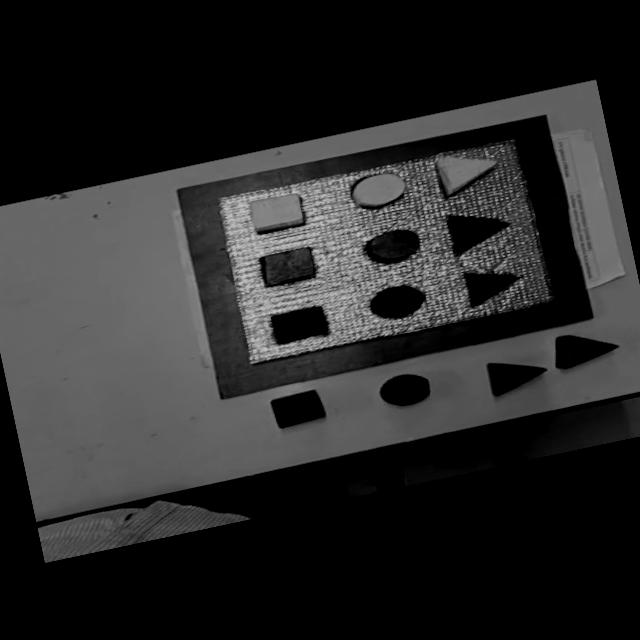bcircle: (374, 368, 434, 411)
bcube: (267, 385, 329, 430)
btriangle: (483, 350, 551, 398)
mtcircle: (364, 278, 429, 324)
mtcube: (266, 302, 332, 348)
mttriangle: (442, 202, 515, 256), (460, 260, 526, 308)
rcircle: (362, 224, 422, 266)
rcube: (256, 244, 320, 288)
rtriangle: (548, 322, 622, 370)
wb: (210, 130, 557, 367)
ycircle: (347, 166, 410, 212)
ycube: (246, 190, 306, 236)
ytriangle: (432, 143, 504, 199)
